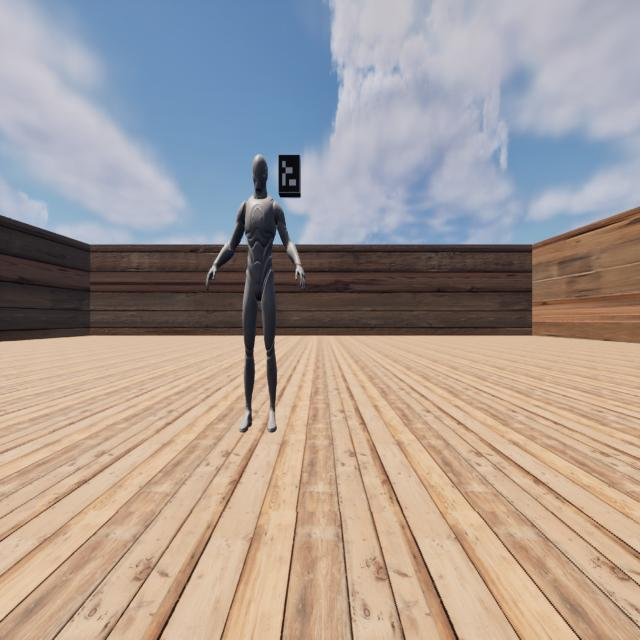aruco: (278, 156, 300, 192)
hip: (246, 268, 274, 280)
